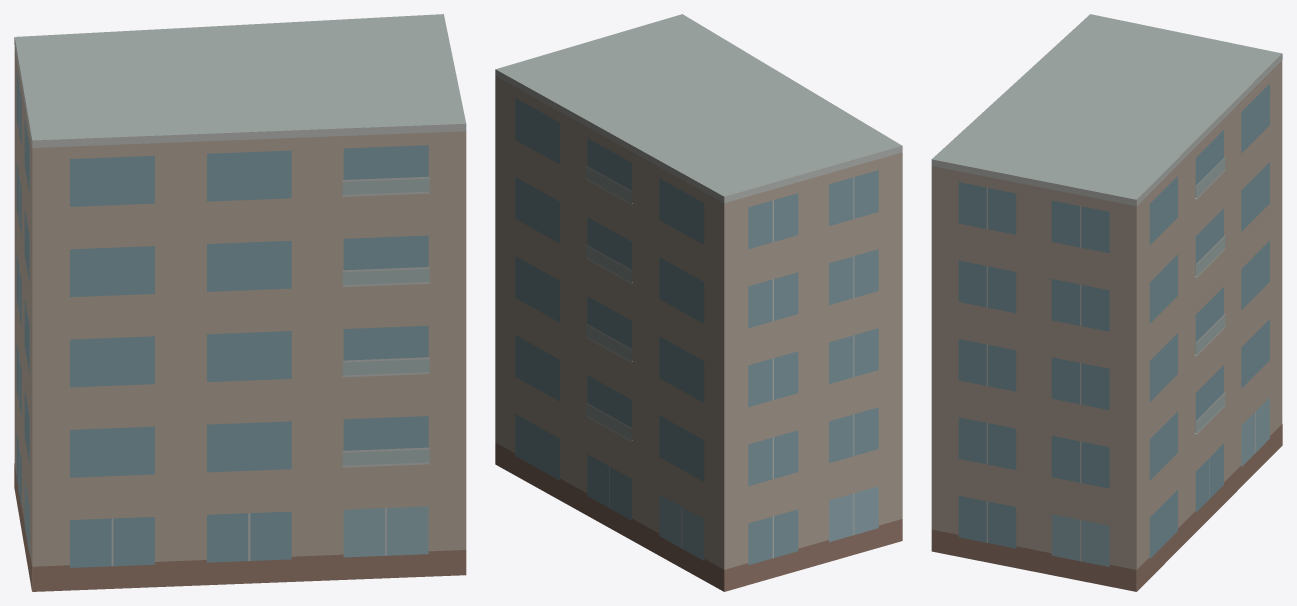
File: survey-upis-32524618.glb
The picture shows the model from 3 angles, left to right: view 1: azimuth 30°, elevation 25°; view 2: azimuth 150°, elevation 25°; view 3: azimuth 270°, elevation 25°; orthographic projection. The views are drawn at different scales.
Visible parts, largest first — view 1: survey-upis-32524618.tmp; view 2: survey-upis-32524618.tmp; view 3: survey-upis-32524618.tmp.
Boxes of the visible parts, x1,y1,x2,y2 form: survey-upis-32524618.tmp: (14,14,466,591); survey-upis-32524618.tmp: (495,14,902,591); survey-upis-32524618.tmp: (931,14,1282,591).
Bounding box in the file's own units: 14.95 × 14.7 × 11.93.
